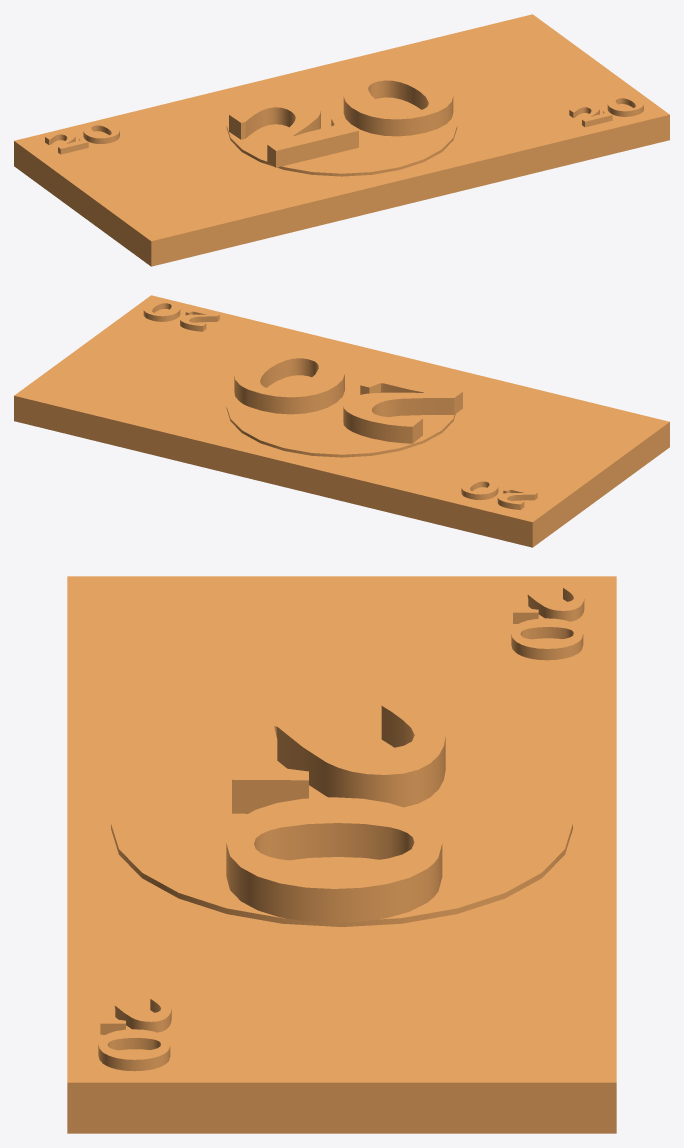
3 renders of one model, top to bottom at view 1: azimuth 30°, elevation 25°; view 2: azimuth 150°, elevation 25°; view 3: azimuth 270°, elevation 25°, orthographic. The views are drawn at different scales.
Visible parts, largest first — view 1: Group1, G_20_3, G_20_2, G_20_1; view 2: Group1, G_20_3, G_20_1, G_20_2; view 3: Group1, G_20_3, G_20_2, G_20_1.
Boxes of the visible parts, x1,y1,x2,y2 form: Group1: (14, 14, 669, 266); G_20_3: (229, 72, 453, 167); G_20_2: (569, 95, 643, 127); G_20_1: (45, 123, 119, 154); Group1: (14, 295, 669, 547); G_20_3: (234, 351, 462, 443); G_20_1: (461, 479, 537, 509); G_20_2: (143, 301, 219, 331); Group1: (67, 576, 616, 1133); G_20_3: (226, 698, 445, 922); G_20_2: (98, 996, 171, 1071); G_20_1: (511, 585, 584, 660).
Bounding box in the file's own units: 12 × 1 × 5.5.
